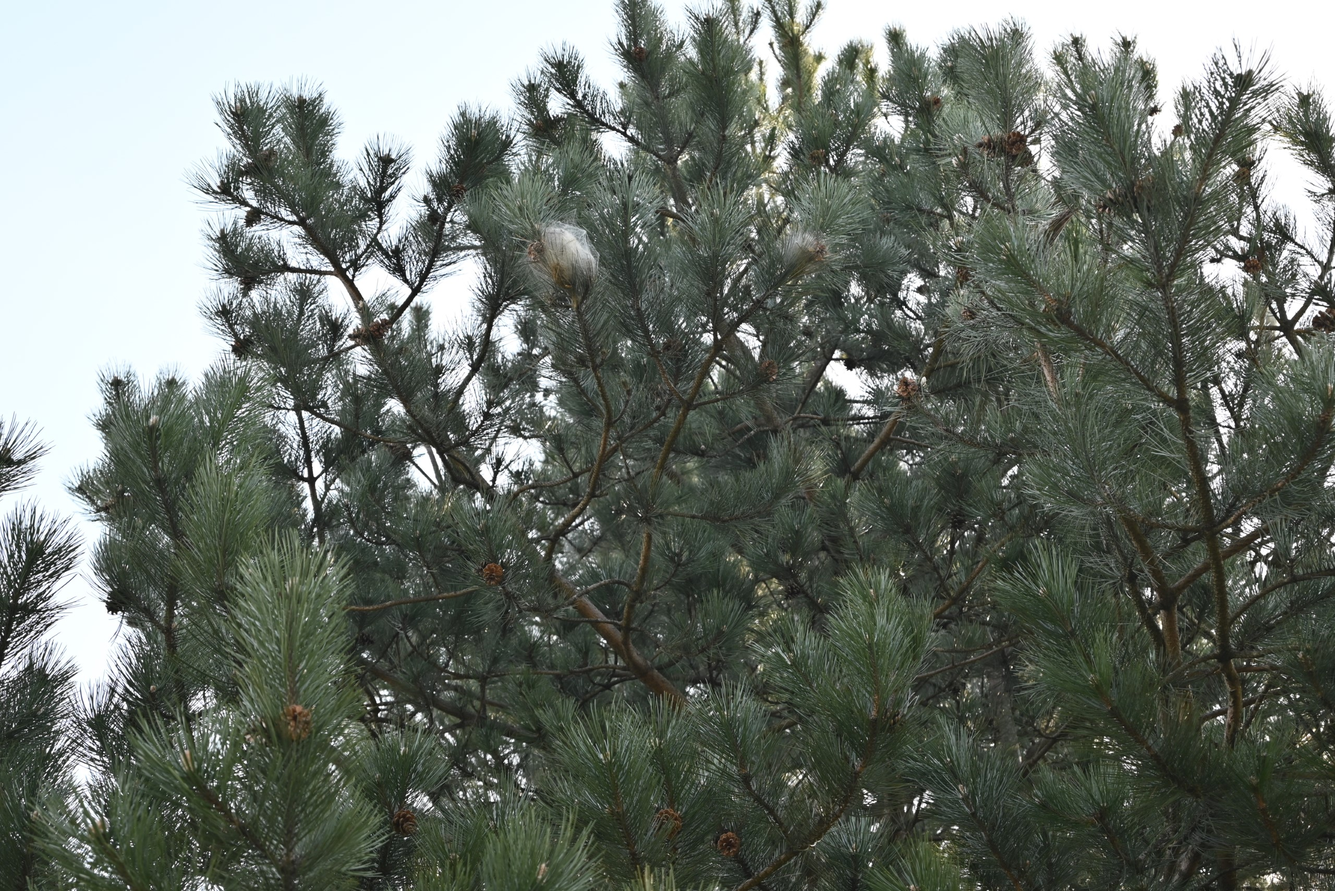thaumatopoea pityocampa jajno gnijezdo: (765, 219, 839, 284), (537, 225, 593, 298)
